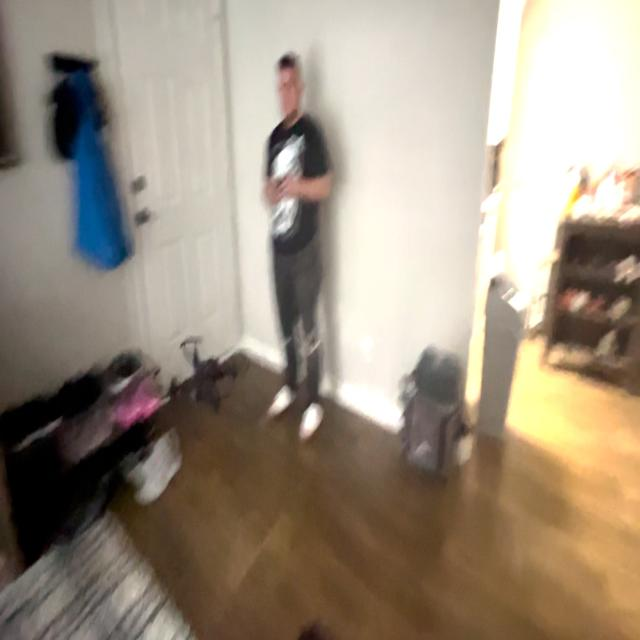drone: (160, 318, 249, 435)
